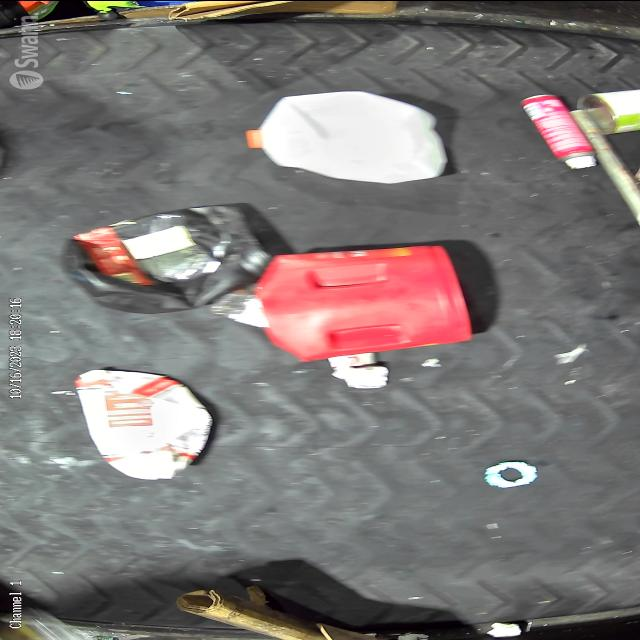can: (520, 92, 598, 167), (570, 87, 640, 134)
milk_jug: (242, 88, 448, 184), (74, 368, 214, 480)
non_white_jug: (258, 240, 474, 360), (56, 202, 276, 312)
